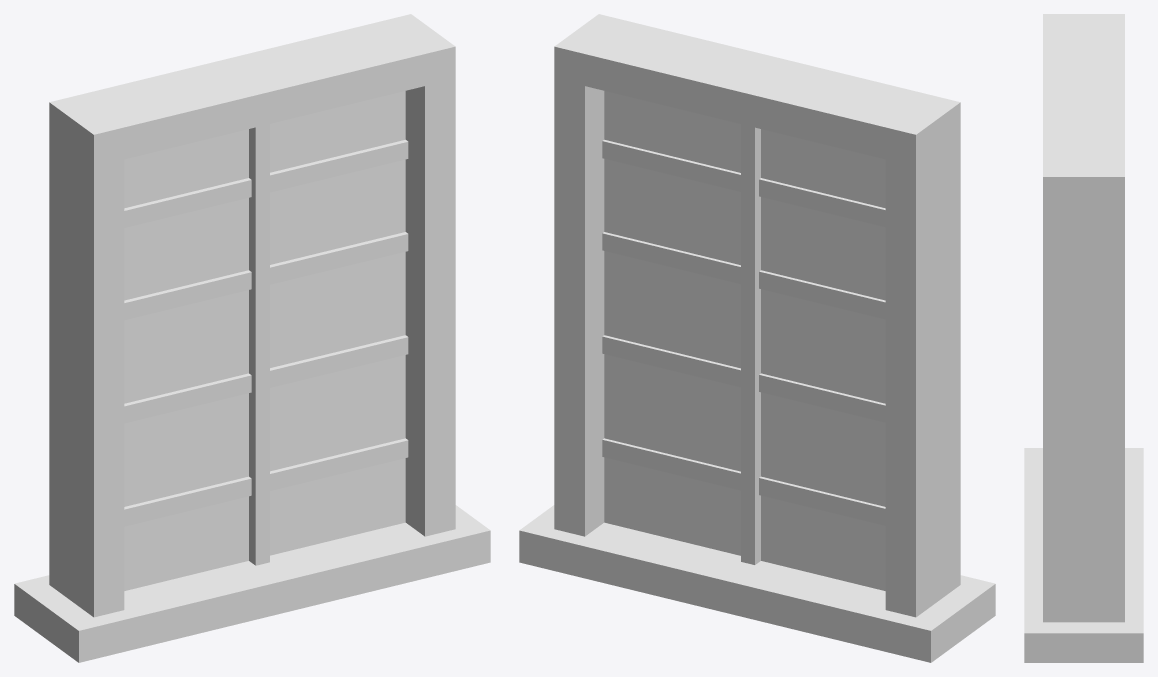
File: window_019.fbx
3 views of the same model, side by side, from view 1: azimuth 30°, elevation 25°; view 2: azimuth 150°, elevation 25°; view 3: azimuth 270°, elevation 25° (orthographic). The views are drawn at different scales.
Parts seen in each view (by area): view 1: window_019; view 2: window_019; view 3: window_019.
Part boxes in pixels (left/top/right/bottom): window_019: left=14, top=14, right=490, bottom=662; window_019: left=519, top=14, right=995, bottom=662; window_019: left=1024, top=14, right=1143, bottom=662.
Bounding box in the file's own units: 157 × 42.75 × 188.
